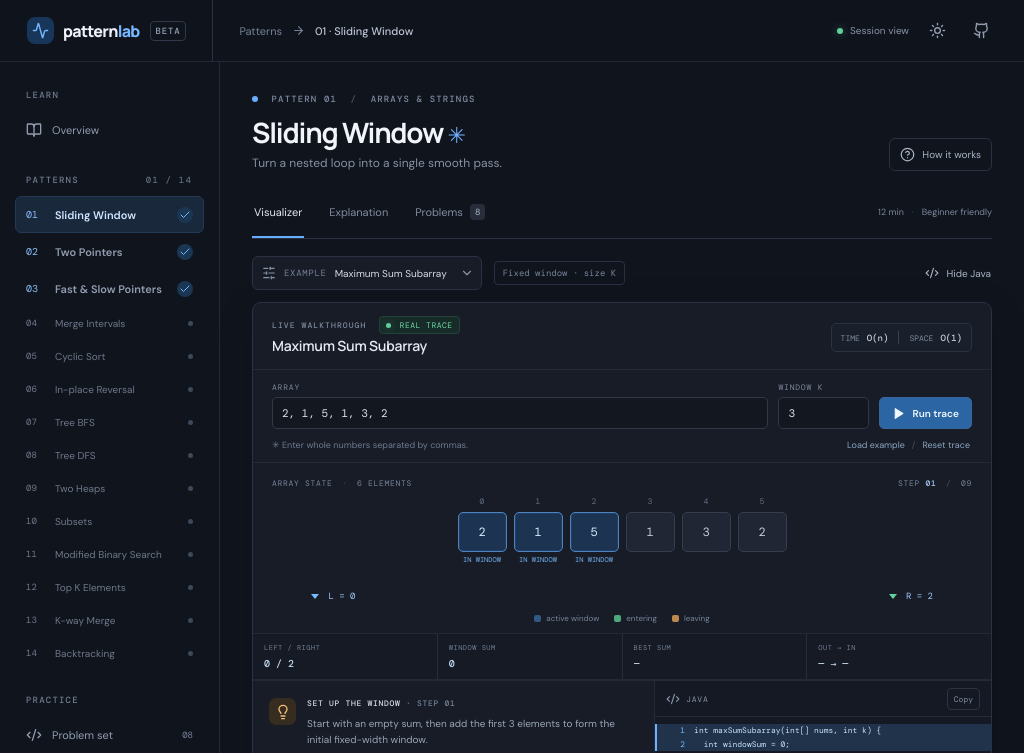
PatternLab learning interface › validates Pattern 03 inputs without replacing the last valid result
Click the button "03 Fast & Slow Pointers" at (110, 288), box x1=15 y1=270 x2=204 y2=307
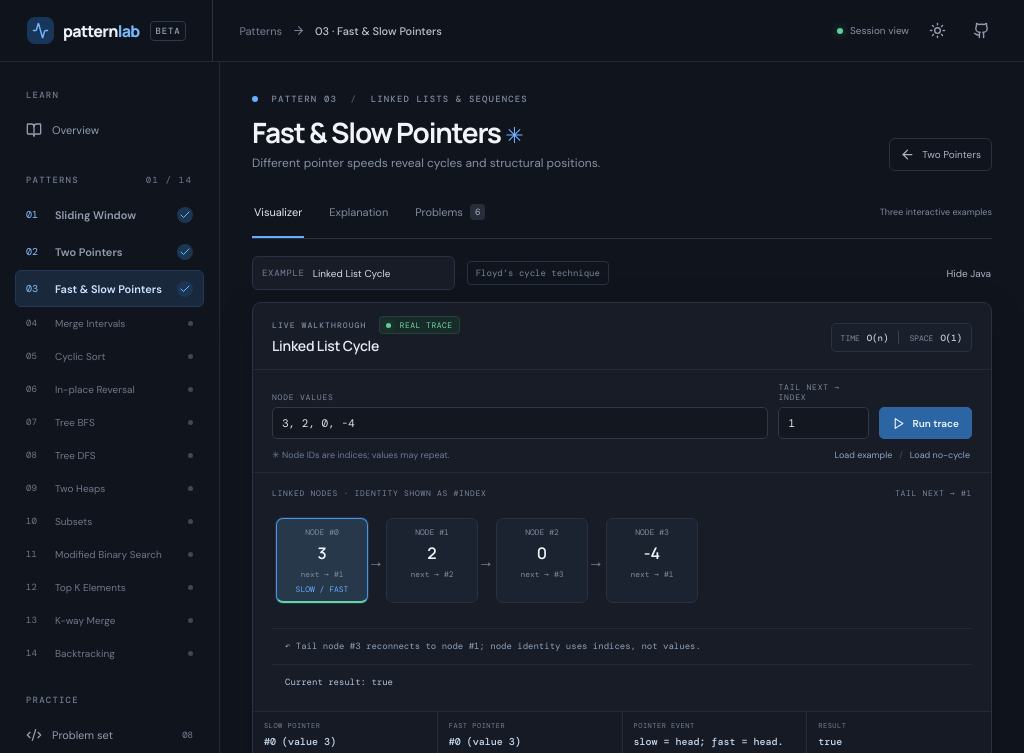
Replace the text in the field named "Cycle destination" with "12" at (824, 423), box x1=778 y1=407 x2=870 y2=439
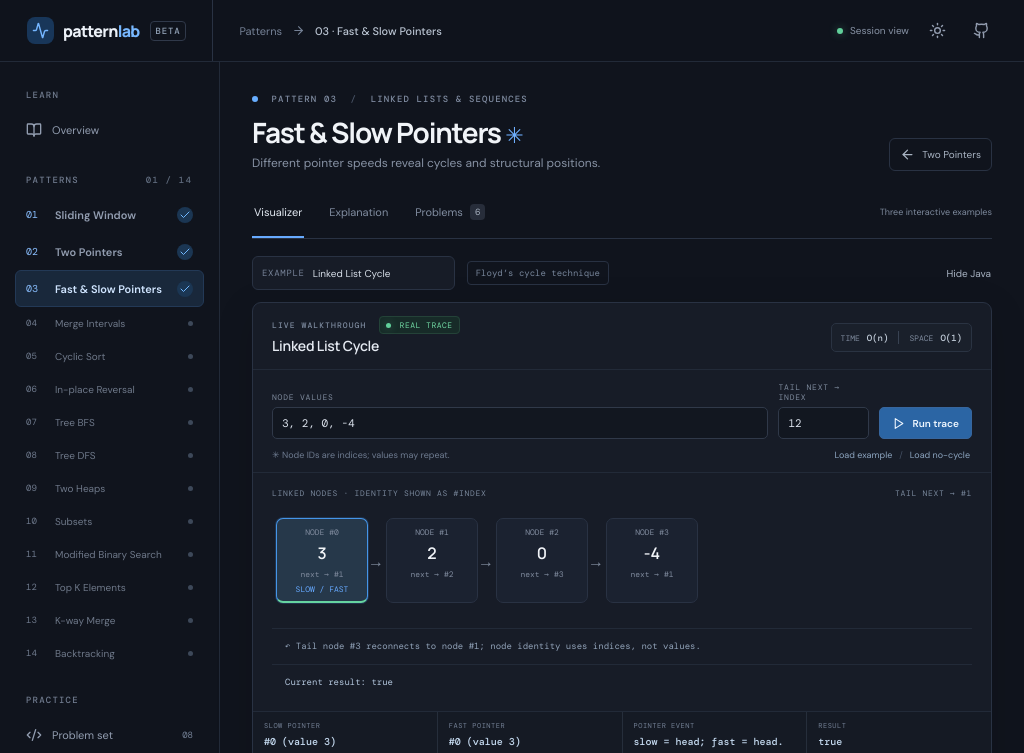
Click the button "Run trace" at (926, 423), box x1=880 y1=407 x2=972 y2=439
(page scrolled)
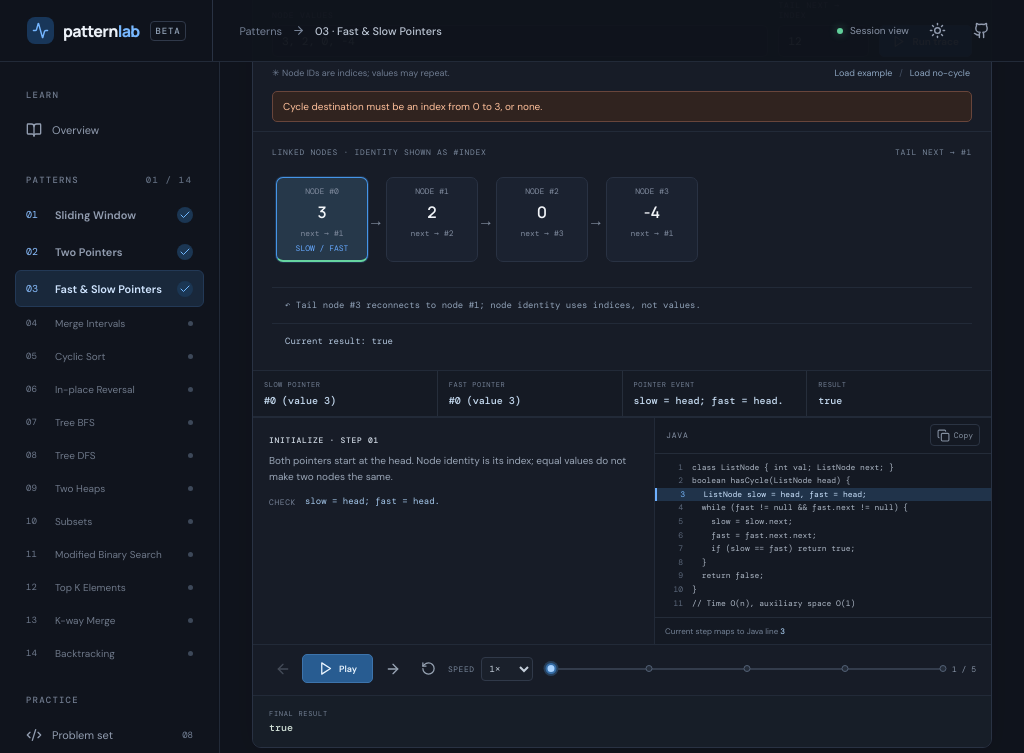
Expected: the text "true" below "POINTER EVENT" is shown, x1=818 y1=394 x2=842 y2=407
Expected: the message shows "Cycle destination", x1=283 y1=100 x2=542 y2=113
